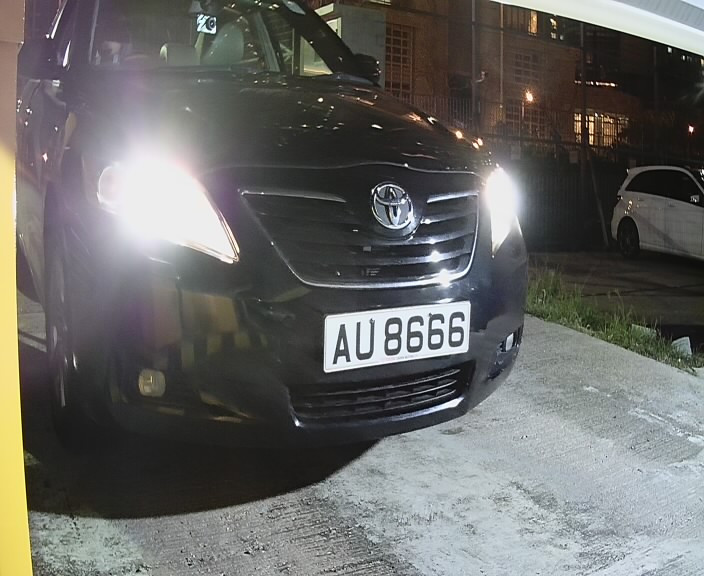Car: (10, 2, 557, 498)
License Plate: (314, 298, 484, 379)
